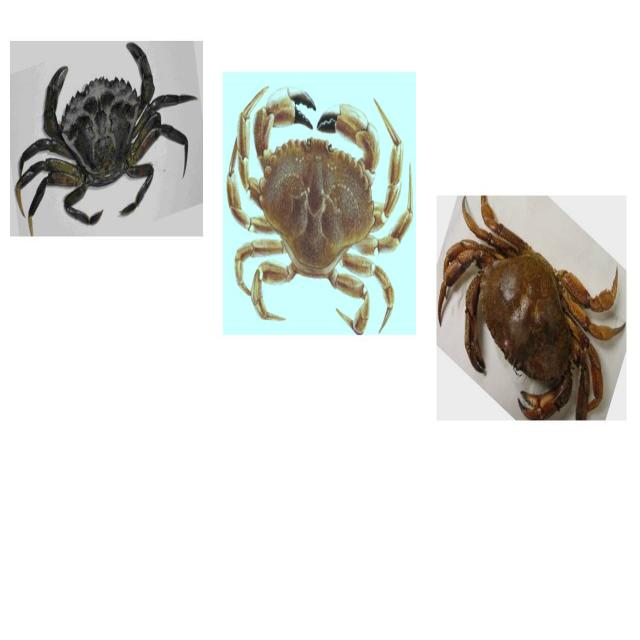egc: (9, 40, 202, 241)
jonah_crab: (223, 74, 417, 330)
rock_crab: (437, 197, 625, 420)
